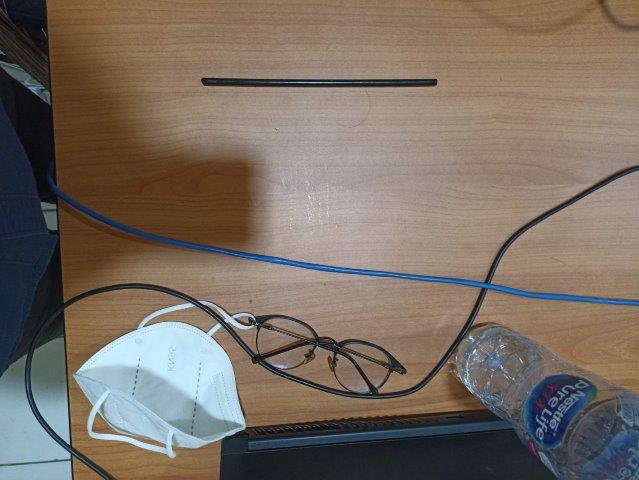sedotan: (201, 78, 437, 87)
